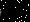person: (1, 8, 3, 19)
